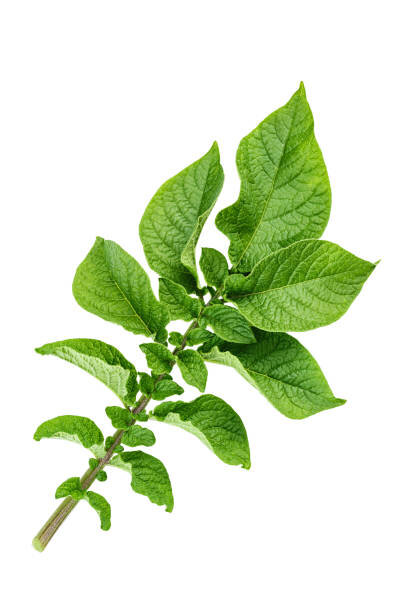potato_leaf: (33, 78, 378, 554)
